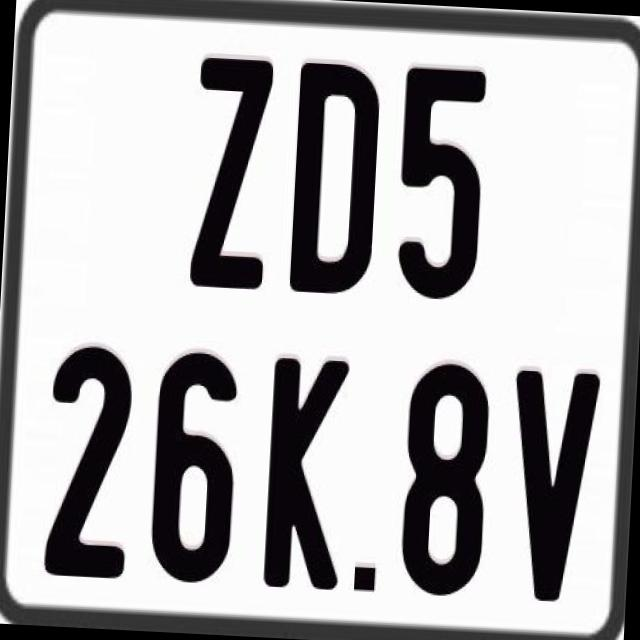2: (41, 342, 136, 580)
5: (392, 64, 487, 302)
6: (146, 348, 237, 582)
8: (396, 358, 488, 604)
D: (288, 60, 382, 304)
K: (259, 354, 349, 590)
V: (504, 367, 606, 610)
Z: (185, 57, 275, 298)
